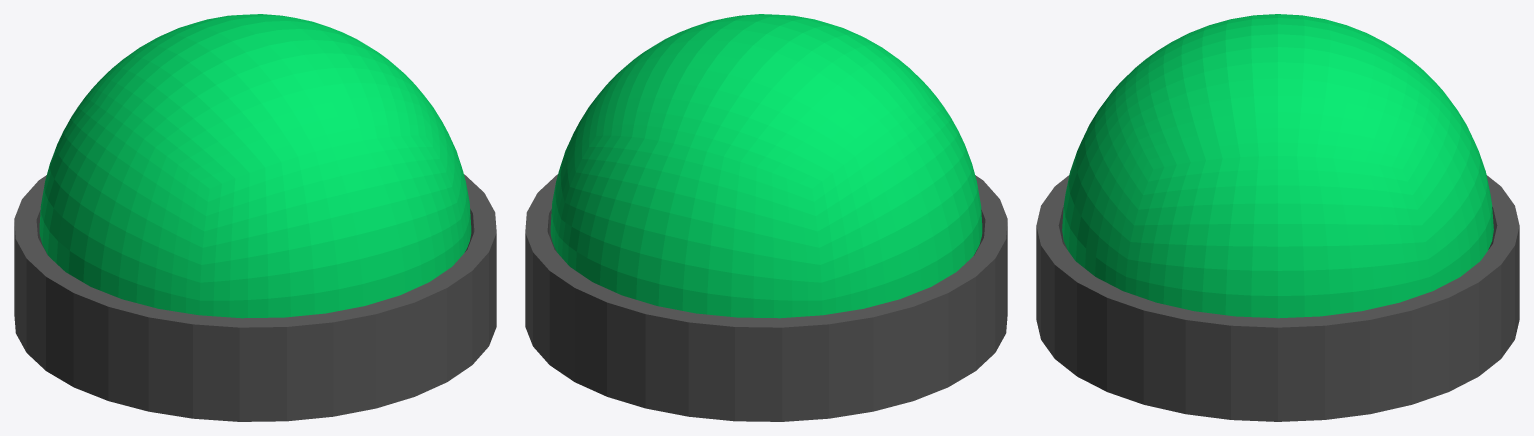
The model's file is PushButton.fbx.
3 views of the same model, side by side, from view 1: azimuth 30°, elevation 25°; view 2: azimuth 150°, elevation 25°; view 3: azimuth 270°, elevation 25° (orthographic).
Visible parts, largest first — view 1: Cube, Cylinder; view 2: Cube, Cylinder; view 3: Cube, Cylinder.
Part boxes in pixels (bbox=[...]): Cube: bbox=[39, 14, 471, 318]; Cylinder: bbox=[14, 174, 496, 421]; Cube: bbox=[550, 14, 982, 318]; Cylinder: bbox=[525, 174, 1007, 421]; Cube: bbox=[1062, 14, 1493, 318]; Cylinder: bbox=[1036, 175, 1519, 421].
Size of the model in its own units: 20.36 by 13.28 by 20.36.
